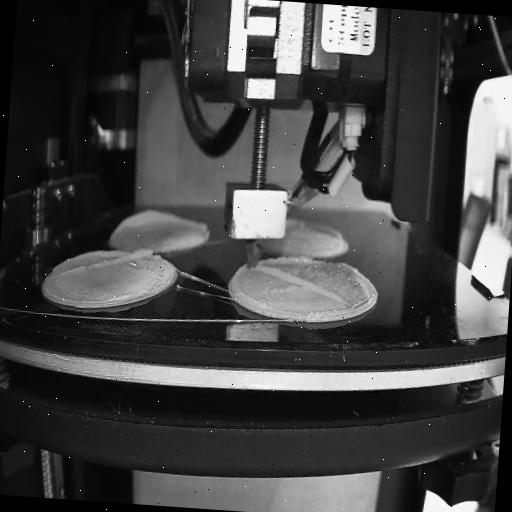over_extrusion: (58, 239, 158, 282), (254, 263, 350, 304), (111, 206, 211, 244), (286, 216, 344, 239)
